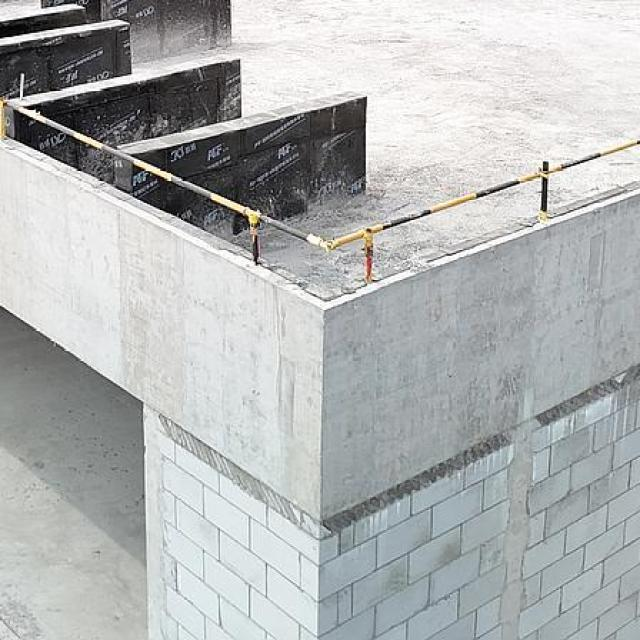Guardrail: (0, 94, 640, 284)
